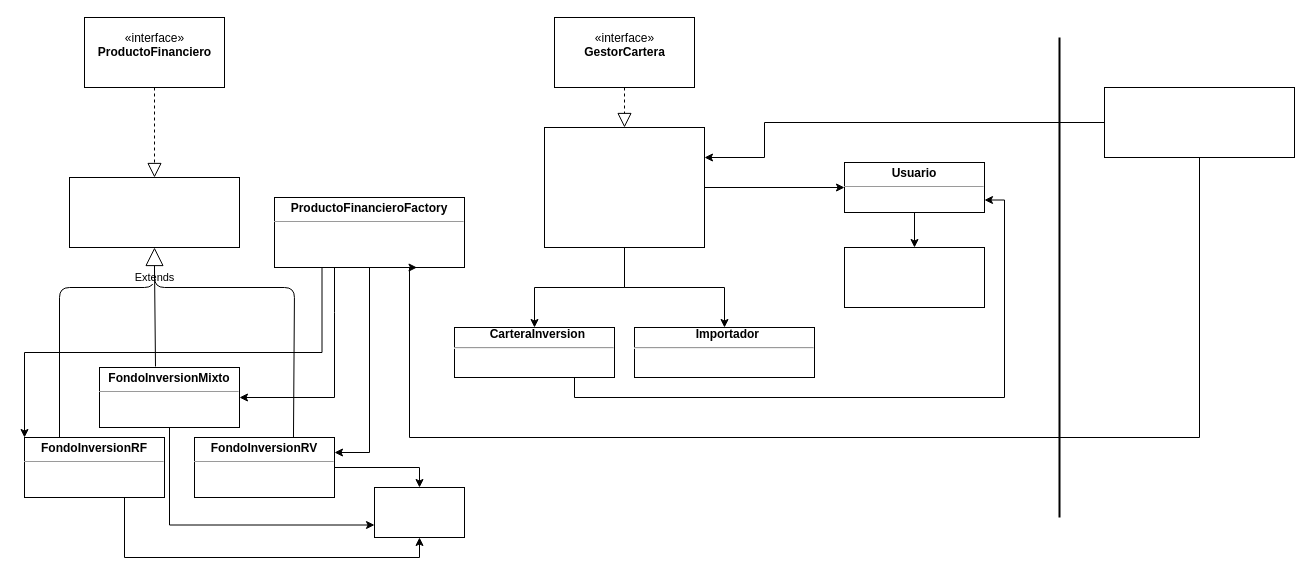
The diagram is 1312 pixels wide and 583 high, and some of its shapes have lost their labels. Here are the shapes that lost their labels. From the top down, the centre of each, then its label:
At [1199,122]: "App".
At [624,187]: "GestorCarteraImpl".
At [154,212]: "«Abstract class» ProductoFinanciero Impl".
At [914,277]: "GeneradorId".
At [419,512]: "«enum» Sector".
